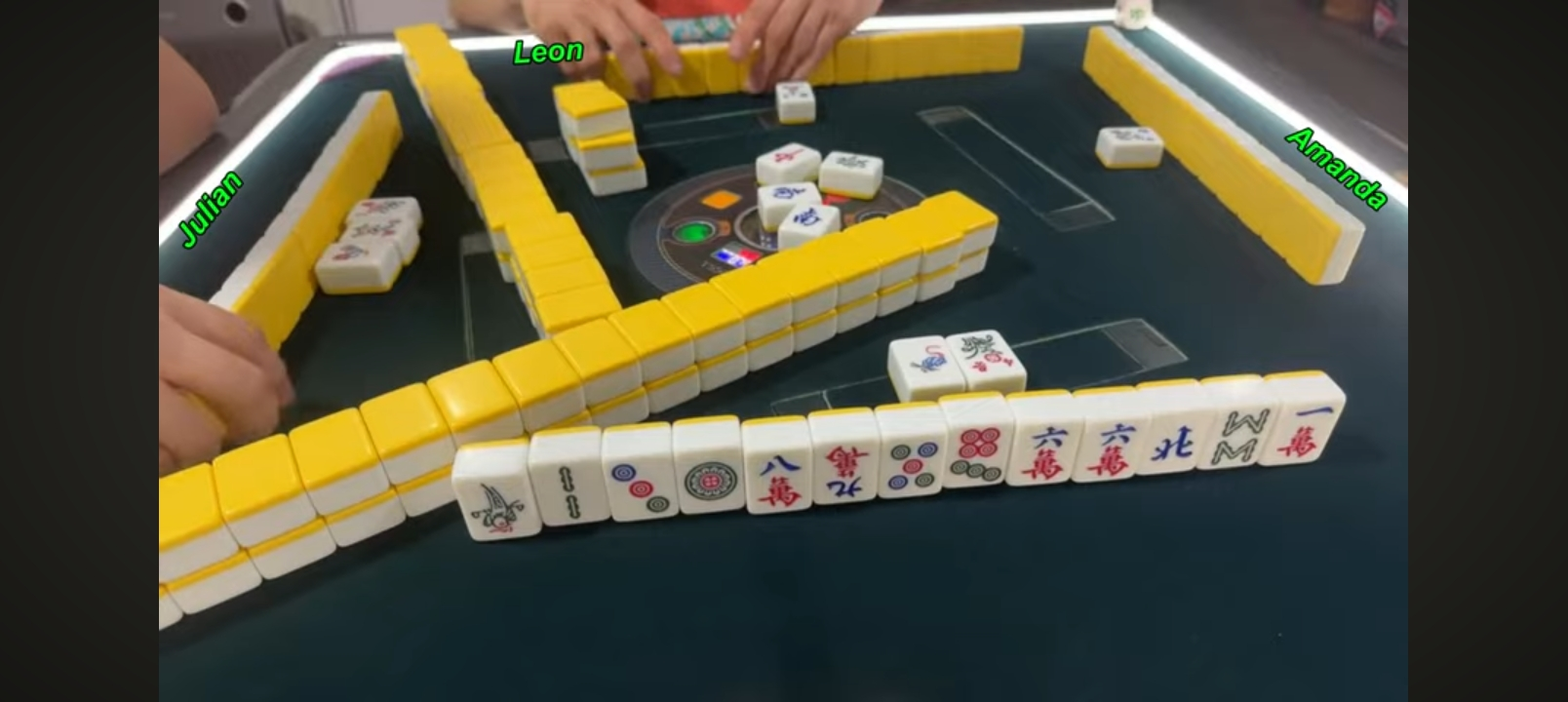TILE: (603, 452, 679, 520), (452, 475, 530, 539), (533, 461, 608, 524), (673, 450, 746, 514), (1009, 422, 1084, 484), (1273, 402, 1344, 463), (945, 425, 1014, 487), (1206, 405, 1276, 465), (950, 331, 1026, 385), (746, 448, 811, 511), (1078, 418, 1144, 479), (815, 442, 879, 503), (880, 437, 944, 496), (1146, 412, 1208, 472), (889, 336, 955, 382)
